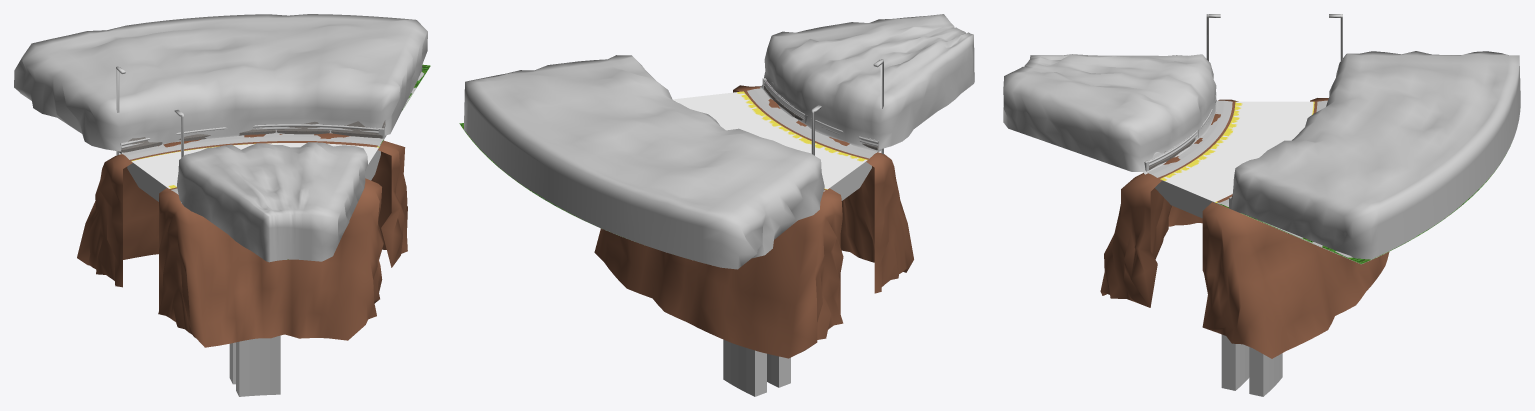
File: RoadRight.fbx
3 views of the same model, side by side, from view 1: azimuth 30°, elevation 25°; view 2: azimuth 150°, elevation 25°; view 3: azimuth 270°, elevation 25° (orthographic). The views are drawn at different scales.
Parts seen in each view (by area): view 1: MountainLeft, CliffRight, MountainRight, CliffLeft, Road, PianoLeft, Road Mask, ConcreteWallLeft, RailGuardLeft; view 2: MountainLeft, CliffLeft, MountainRight, CliffRight, Road Mask, Road, PianoRight, RailGuardRight; view 3: MountainLeft, MountainRight, CliffLeft, CliffRight, Road Mask, Road, PianoRight.
Part boxes in pixels (bbox=[...]): MountainLeft: bbox=[14, 14, 427, 154]; CliffRight: bbox=[158, 178, 383, 347]; MountainRight: bbox=[177, 142, 367, 262]; CliffLeft: bbox=[77, 133, 407, 287]; Road: bbox=[127, 145, 380, 396]; PianoLeft: bbox=[122, 87, 416, 159]; Road Mask: bbox=[131, 143, 378, 188]; ConcreteWallLeft: bbox=[120, 120, 385, 153]; RailGuardLeft: bbox=[121, 124, 379, 148]; MountainLeft: bbox=[463, 55, 824, 269]; CliffLeft: bbox=[594, 188, 843, 358]; MountainRight: bbox=[760, 14, 974, 152]; CliffRight: bbox=[733, 85, 913, 293]; Road Mask: bbox=[672, 91, 867, 189]; Road: bbox=[723, 161, 871, 396]; PianoRight: bbox=[747, 88, 876, 158]; RailGuardRight: bbox=[764, 80, 878, 146]; MountainLeft: bbox=[1231, 51, 1520, 259]; MountainRight: bbox=[1003, 54, 1217, 174]; CliffLeft: bbox=[1202, 98, 1389, 358]; CliffRight: bbox=[1100, 99, 1238, 307]; Road Mask: bbox=[1160, 101, 1314, 202]; Road: bbox=[1155, 180, 1282, 396]; PianoRight: bbox=[1147, 100, 1232, 177].
Size of what is drawn, in the model's own units: 886 by 755 by 1105.
